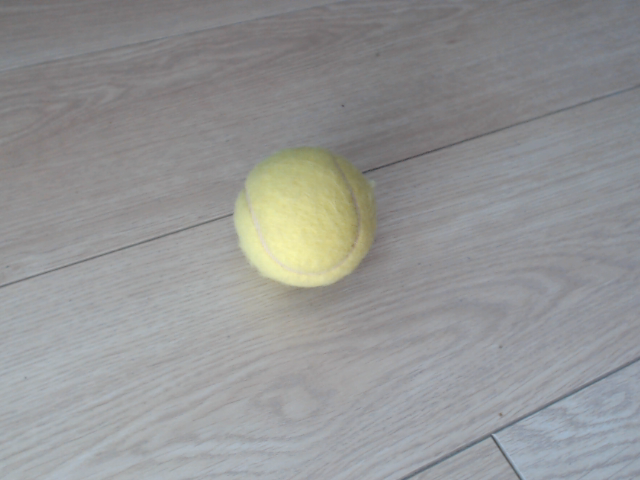ball: (229, 141, 380, 289)
